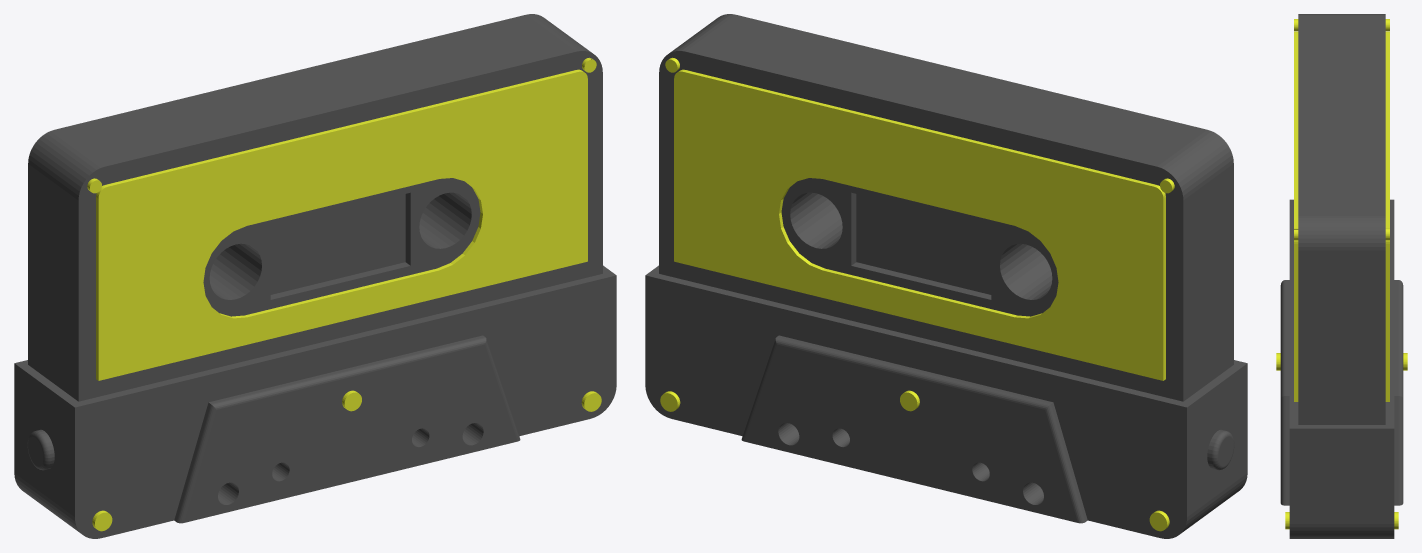
File: season.glb
The picture shows the model from 3 angles, left to right: view 1: azimuth 30°, elevation 25°; view 2: azimuth 150°, elevation 25°; view 3: azimuth 270°, elevation 25°; orthographic projection. The views are drawn at different scales.
Visible parts, largest first — view 1: season; view 2: season; view 3: season.
Boxes of the visible parts, bbox=[...] form: season: bbox=[14, 14, 616, 538]; season: bbox=[645, 14, 1247, 538]; season: bbox=[1276, 14, 1407, 538].
Bounding box in the file's own units: 1.89 × 1.2 × 0.45.
